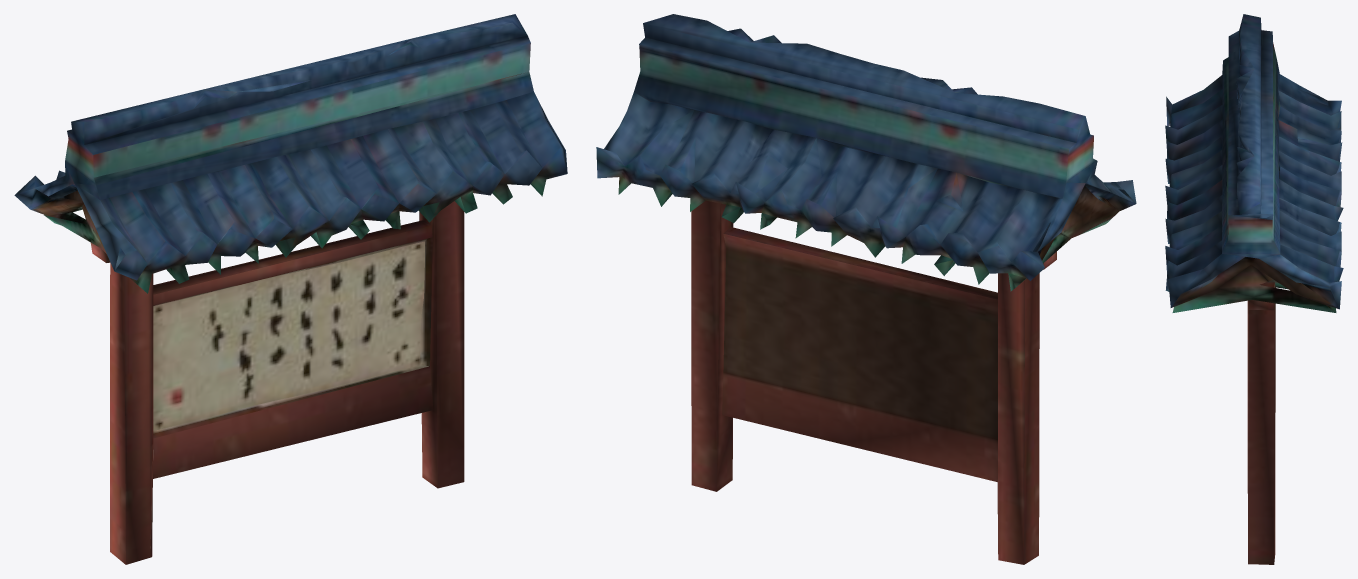
The model's file is notice-board_far.glb.
3 views of the same model, side by side, from view 1: azimuth 30°, elevation 25°; view 2: azimuth 150°, elevation 25°; view 3: azimuth 270°, elevation 25° (orthographic). The views are drawn at different scales.
Visible parts, largest first — view 1: notice_board_lod1; view 2: notice_board_lod1; view 3: notice_board_lod1.
Part boxes in pixels (x1,y1,x2,y2): notice_board_lod1: (14,14,567,564); notice_board_lod1: (596,14,1136,564); notice_board_lod1: (1165,14,1343,564).
Bounding box in the file's own units: 2.11 × 2 × 0.827.
1 material, 1 textured.
